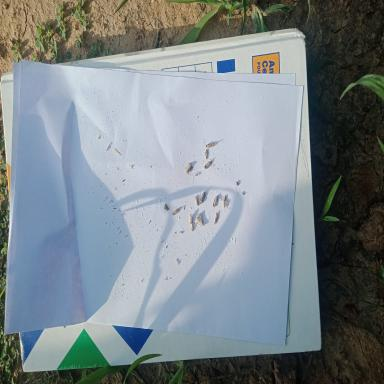pbw: (199, 191, 206, 204), (203, 160, 213, 169), (213, 194, 218, 208), (172, 207, 180, 215), (205, 142, 217, 147), (195, 196, 199, 206), (204, 148, 208, 158)
